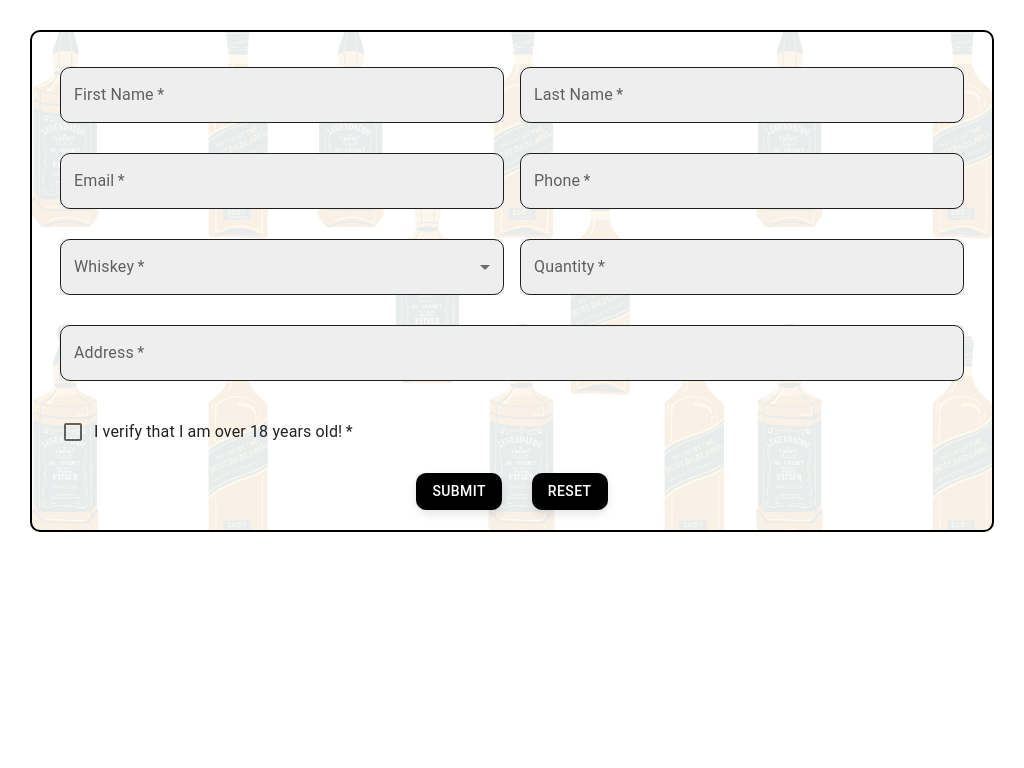
Test: Test whiskey purchase page submit empty fields › goes to purchase page
Expected: the element with test id "first-name-input" is shown, [60, 67, 504, 123]
Expected: the element with test id "last-name-input" is shown, [520, 67, 964, 123]
What coordinates should you click on to do the following:
click the button with test id "submit-button"
I would click on:
 (460, 492)
Its box is [417, 473, 502, 510].
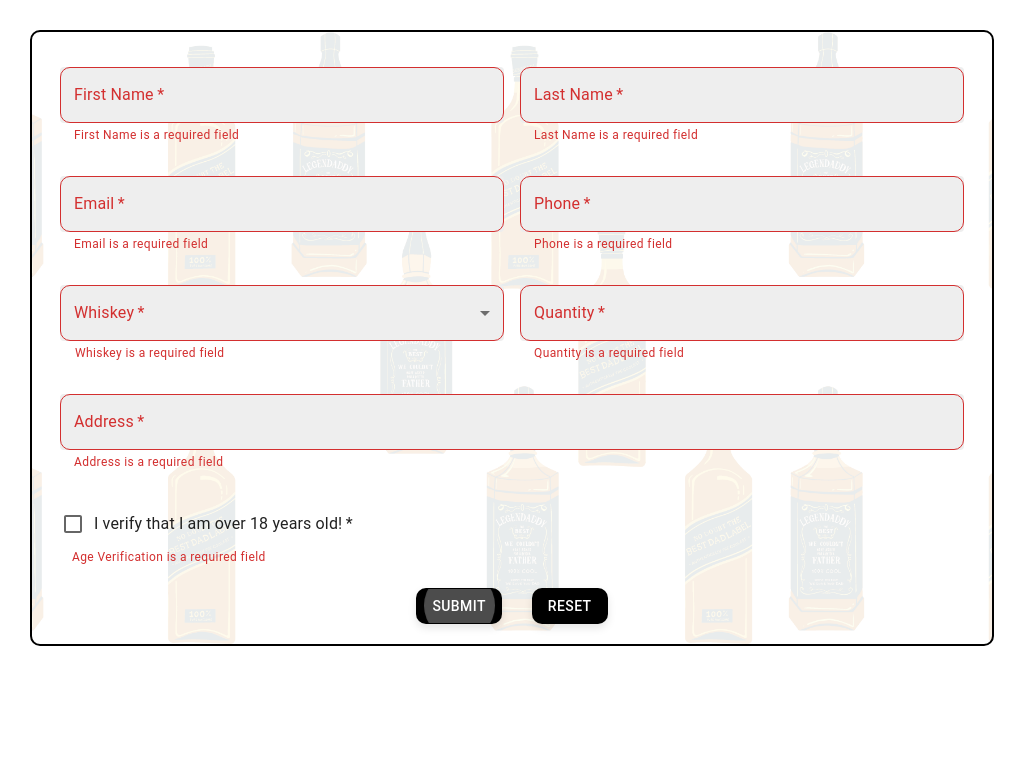
Expected: the text "First Name is a required field" is shown, [74, 128, 239, 142]
Expected: the text "Last Name is a required field" is shown, [534, 128, 698, 142]
Expected: the text "Email is a required field" is shown, [74, 237, 208, 251]
